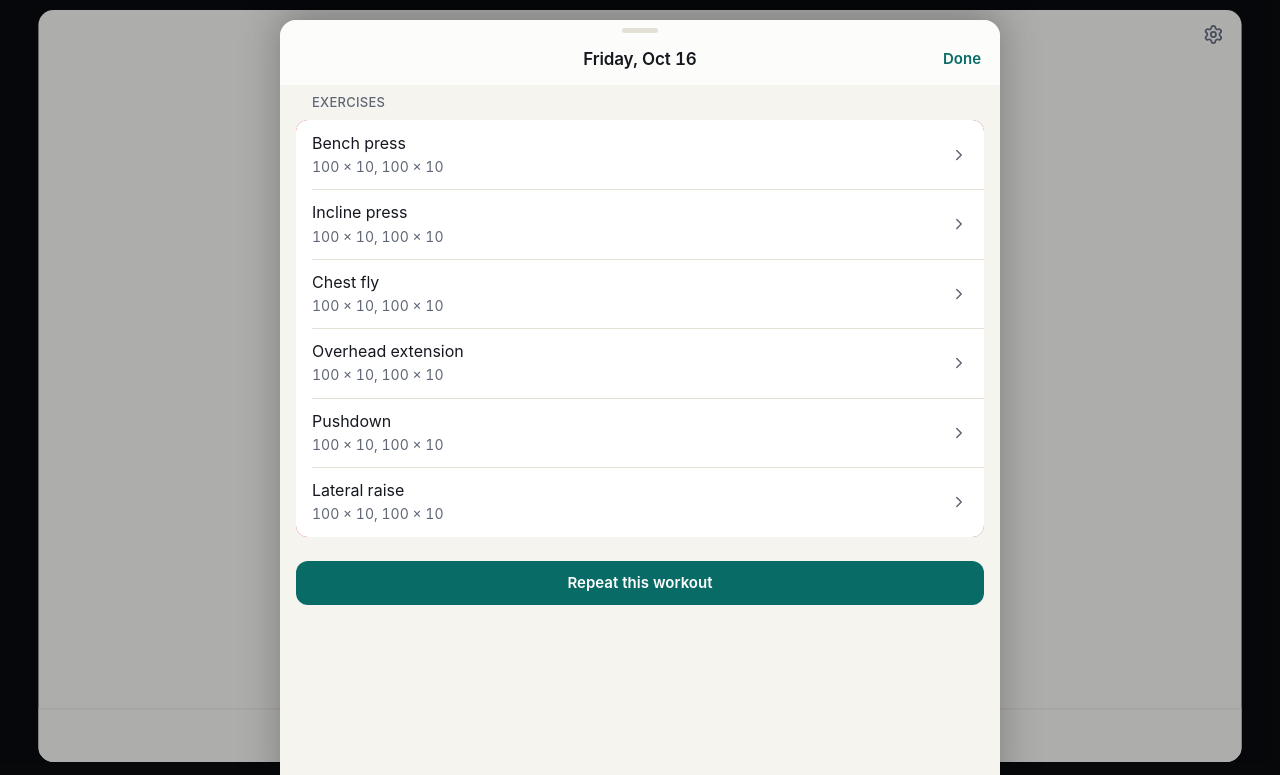
Test: Repeat this workout › puts the first exercise on the Log with its target and queues the rest
The image size is (1280, 775).
What coordinates should you click on to do the following:
click the button "Repeat this workout"
I would click on:
 (640, 583)
Its box is [296,561,984,605].
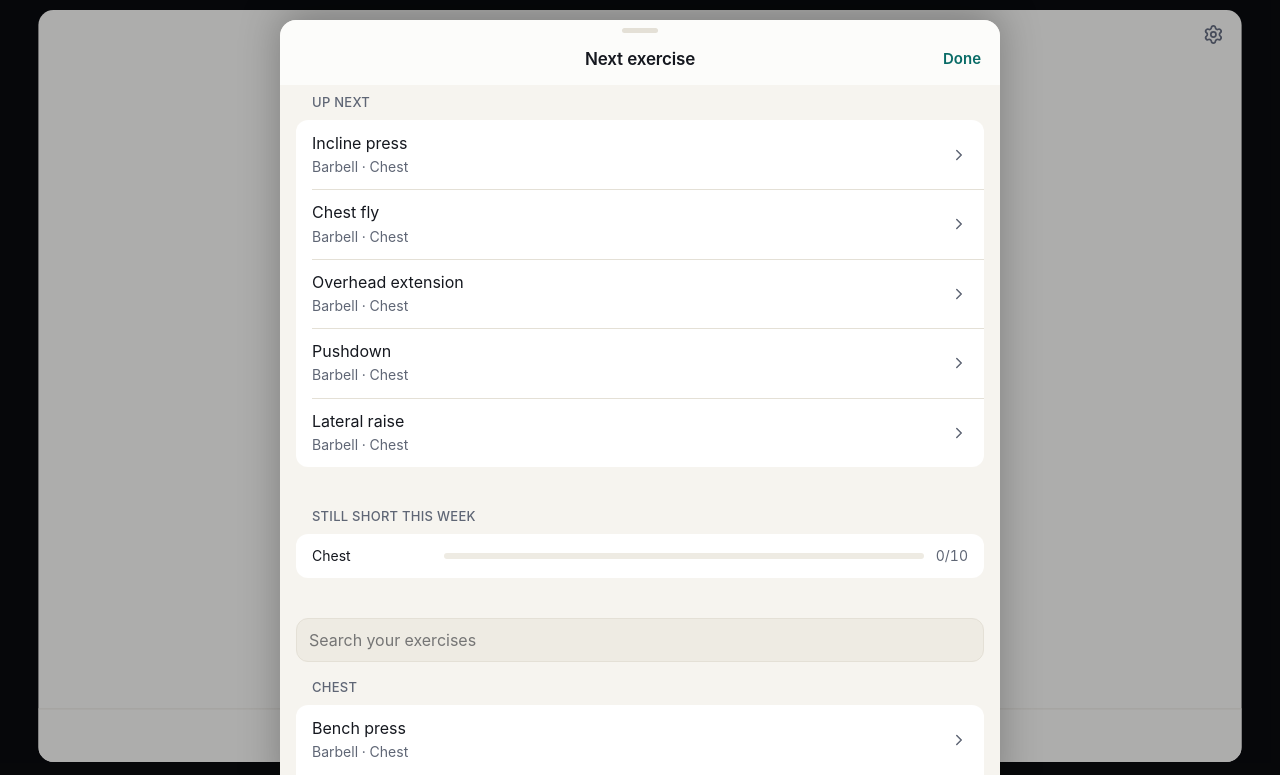
Expected: the heading "Bench press" is shown, [317,108,442,133]
Expected: the element "Target" is shown, [317,176,636,261]
